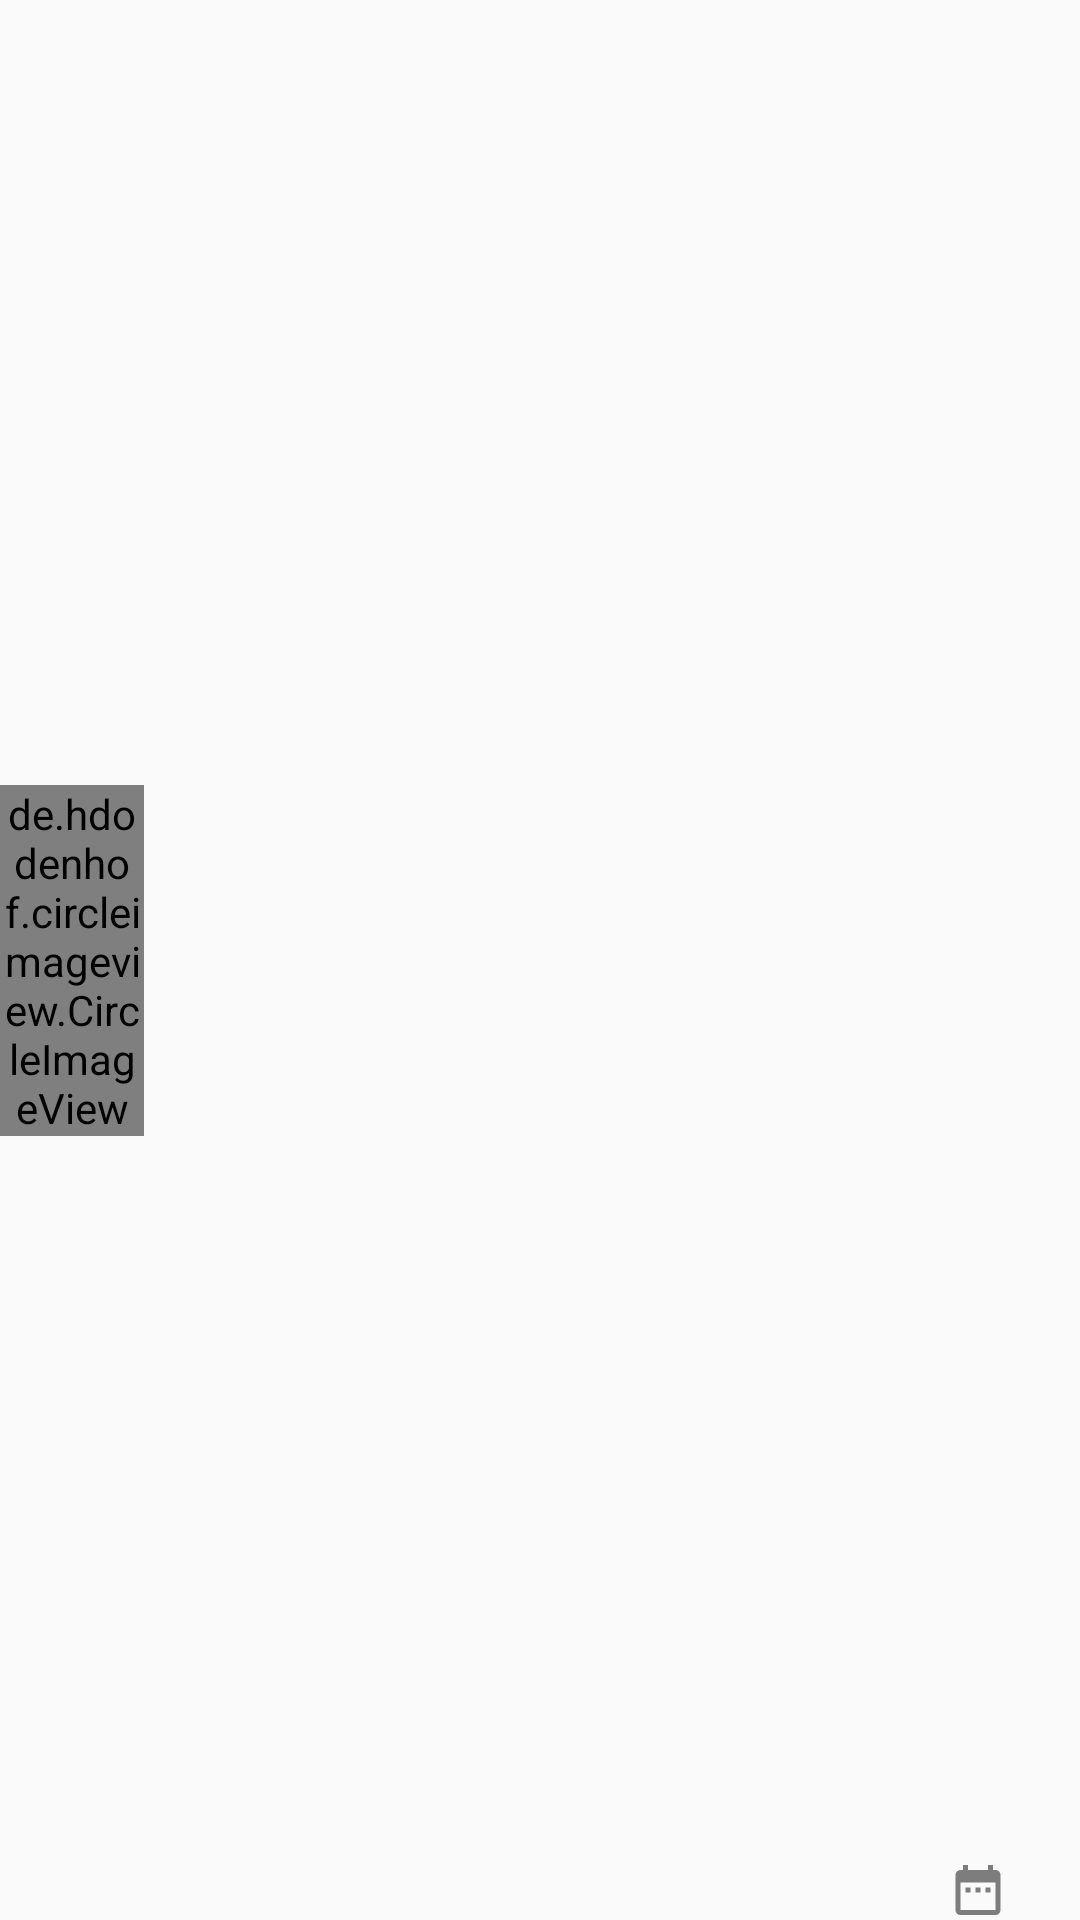

Where to tap for icons on this 1080px×1920px app screen, as (x=x, y=y):
date range: (x=978, y=1890)
